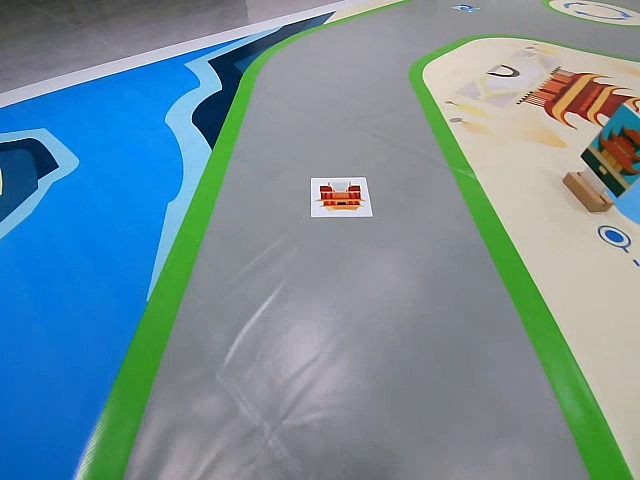dengGaoZuoFu: (305, 175, 374, 222)
yueYangGe: (585, 98, 640, 205)
